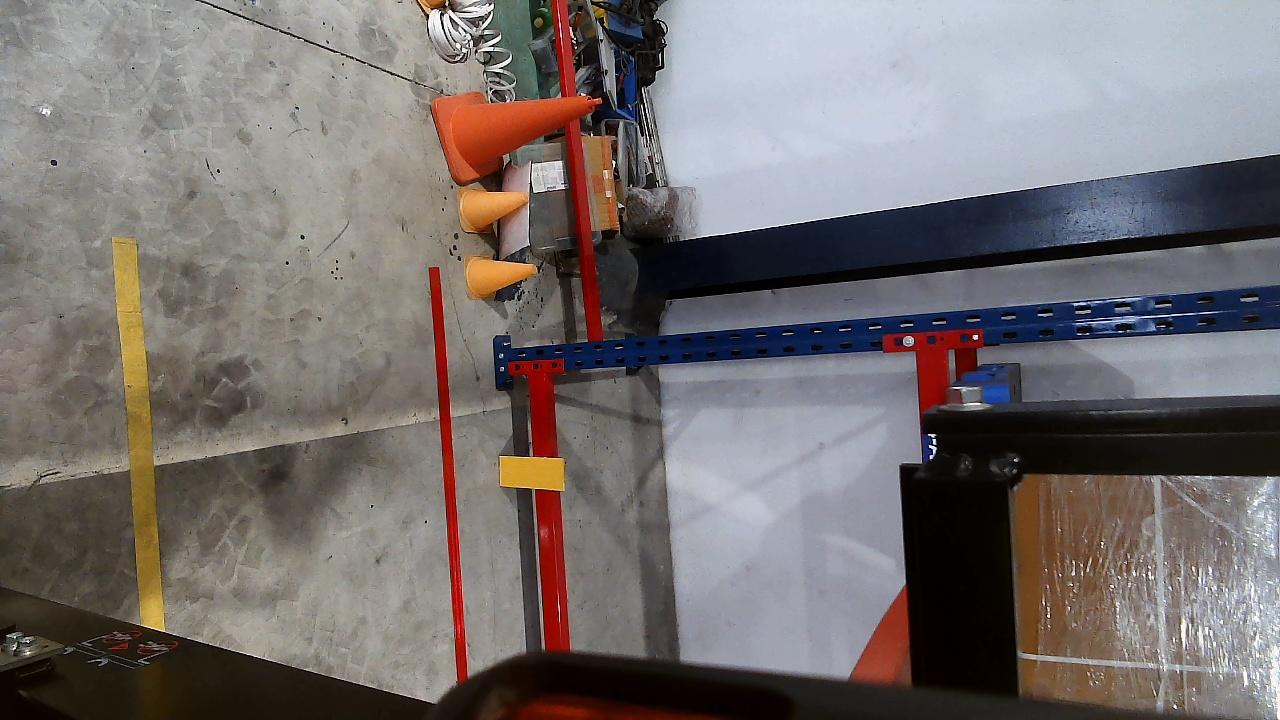h_rack: (526, 372, 566, 653)
orange_strip: (499, 456, 565, 491)
red_line: (427, 270, 468, 681)
yellow_line: (110, 236, 164, 627)
